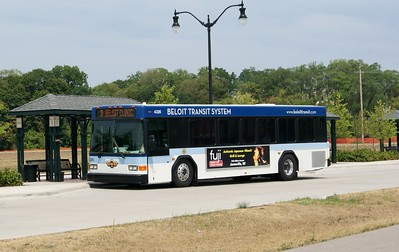bus: (87, 103, 331, 188)
